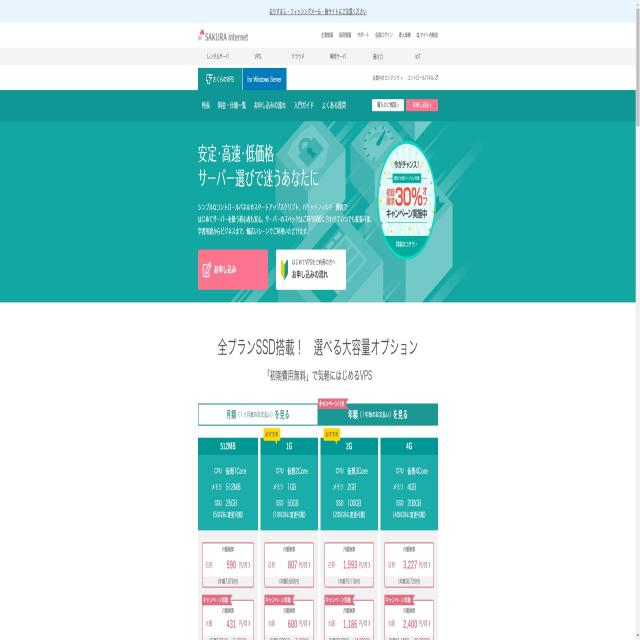menu-bar: (314, 25, 442, 43)
tab-bar: (196, 68, 448, 120), (198, 389, 442, 432), (197, 45, 432, 66)
